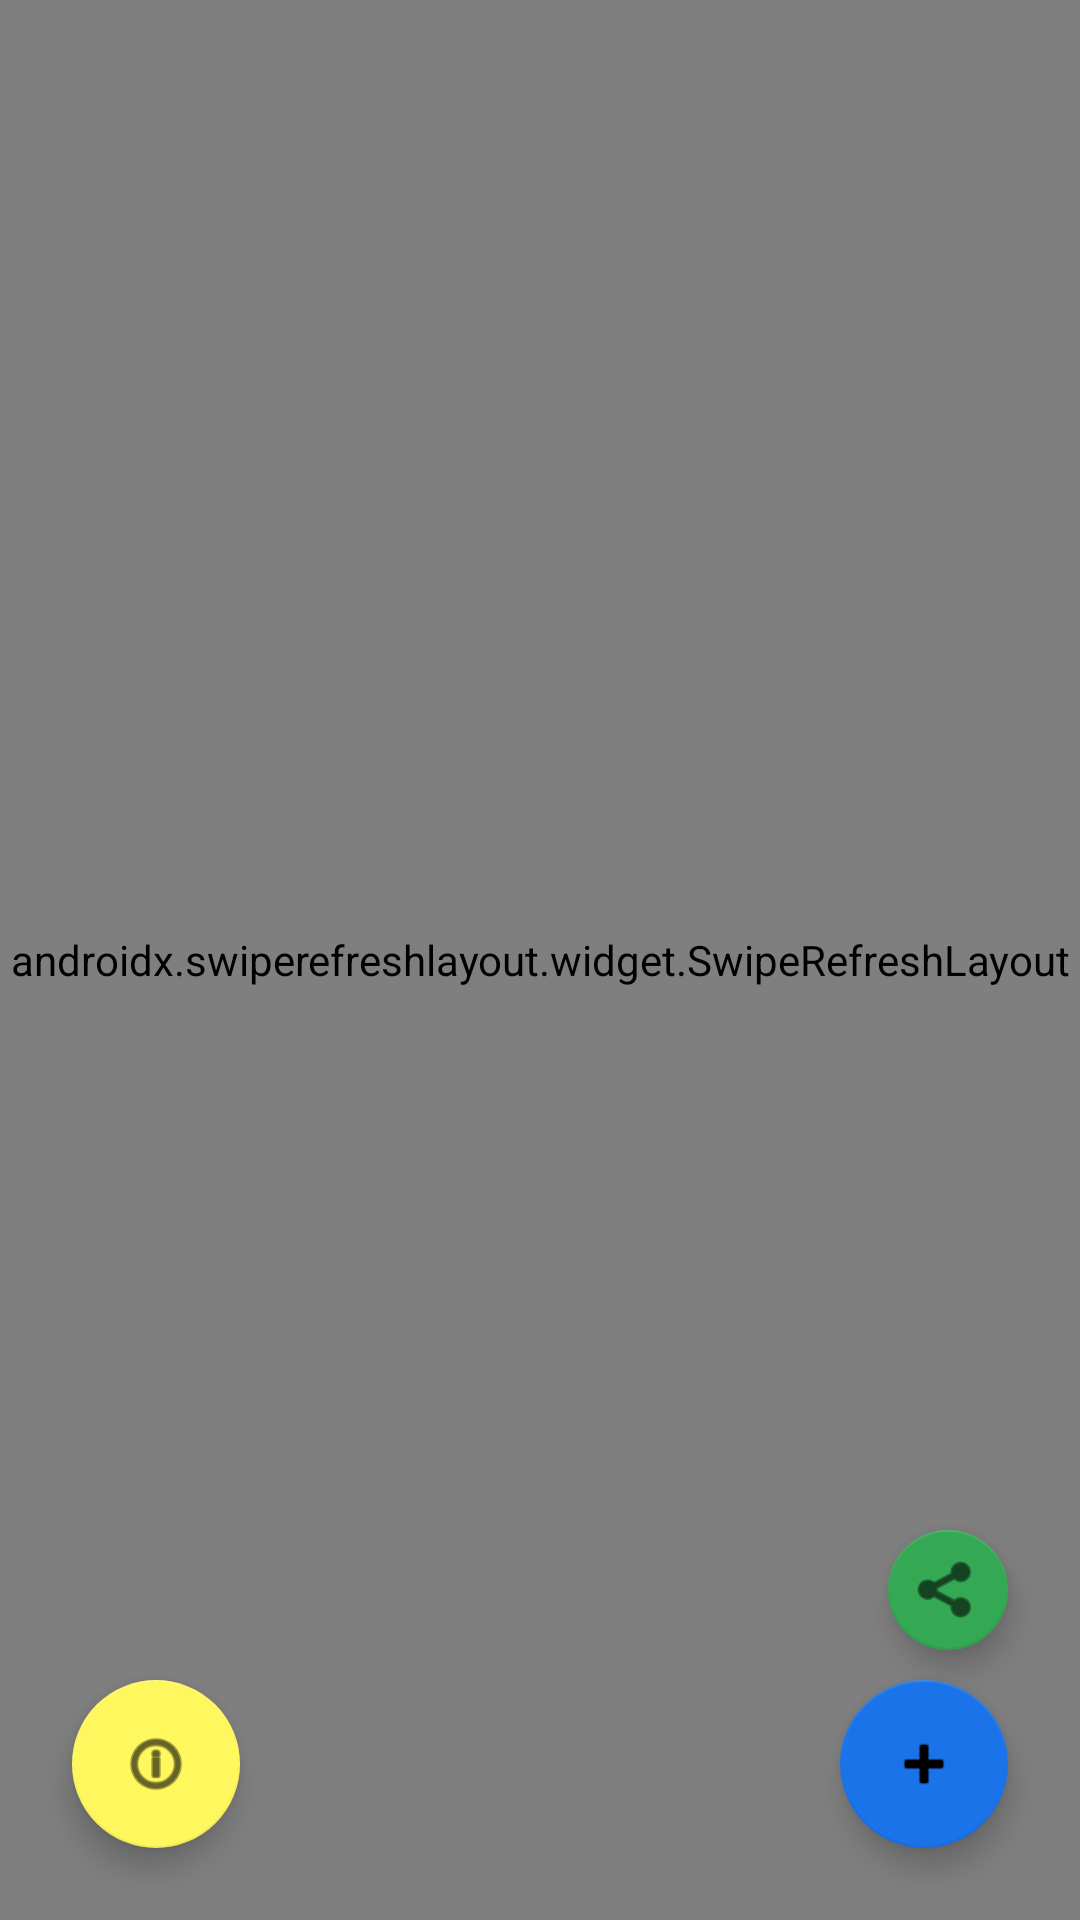

Icons on this 1080 × 1920 Android screen, each with its box as bbox=(x1, y1, x2, y2):
add: bbox=(840, 1680, 1008, 1848)
share: bbox=(888, 1530, 1008, 1650)
